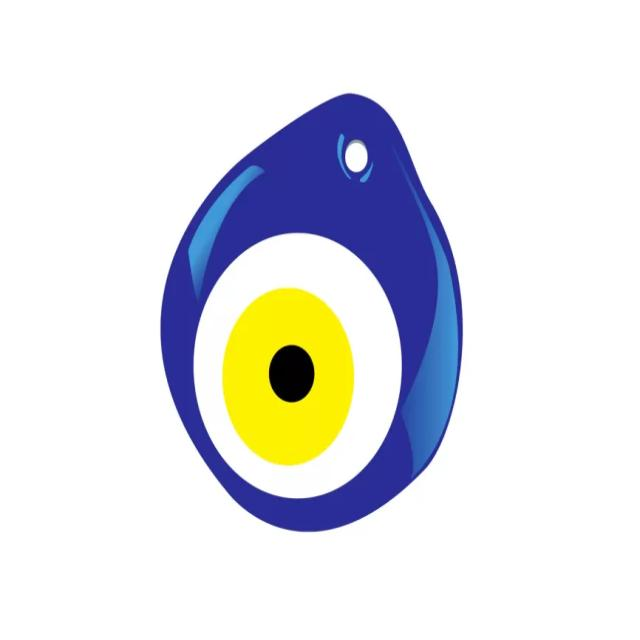Nazar-Boncugu: (158, 94, 465, 536)
